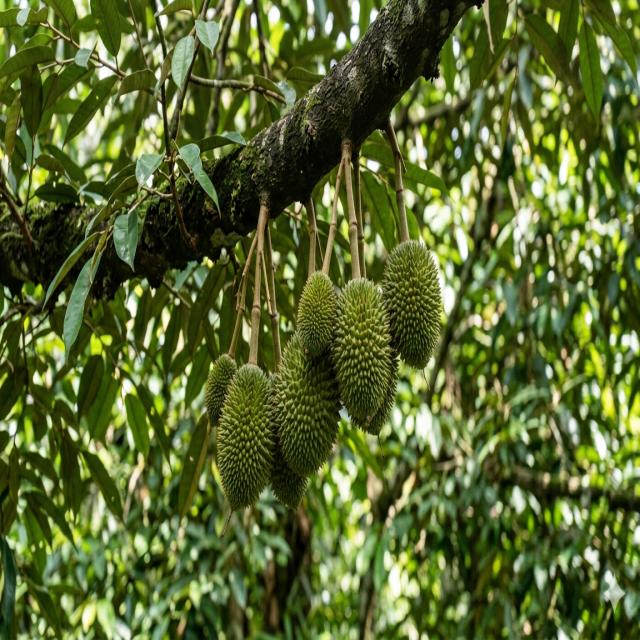immature: (272, 337, 341, 479), (331, 276, 395, 426), (216, 362, 276, 510), (380, 238, 442, 368), (295, 268, 340, 356), (267, 442, 309, 509), (299, 341, 338, 406), (205, 351, 239, 425), (283, 332, 319, 383), (236, 361, 268, 400)
